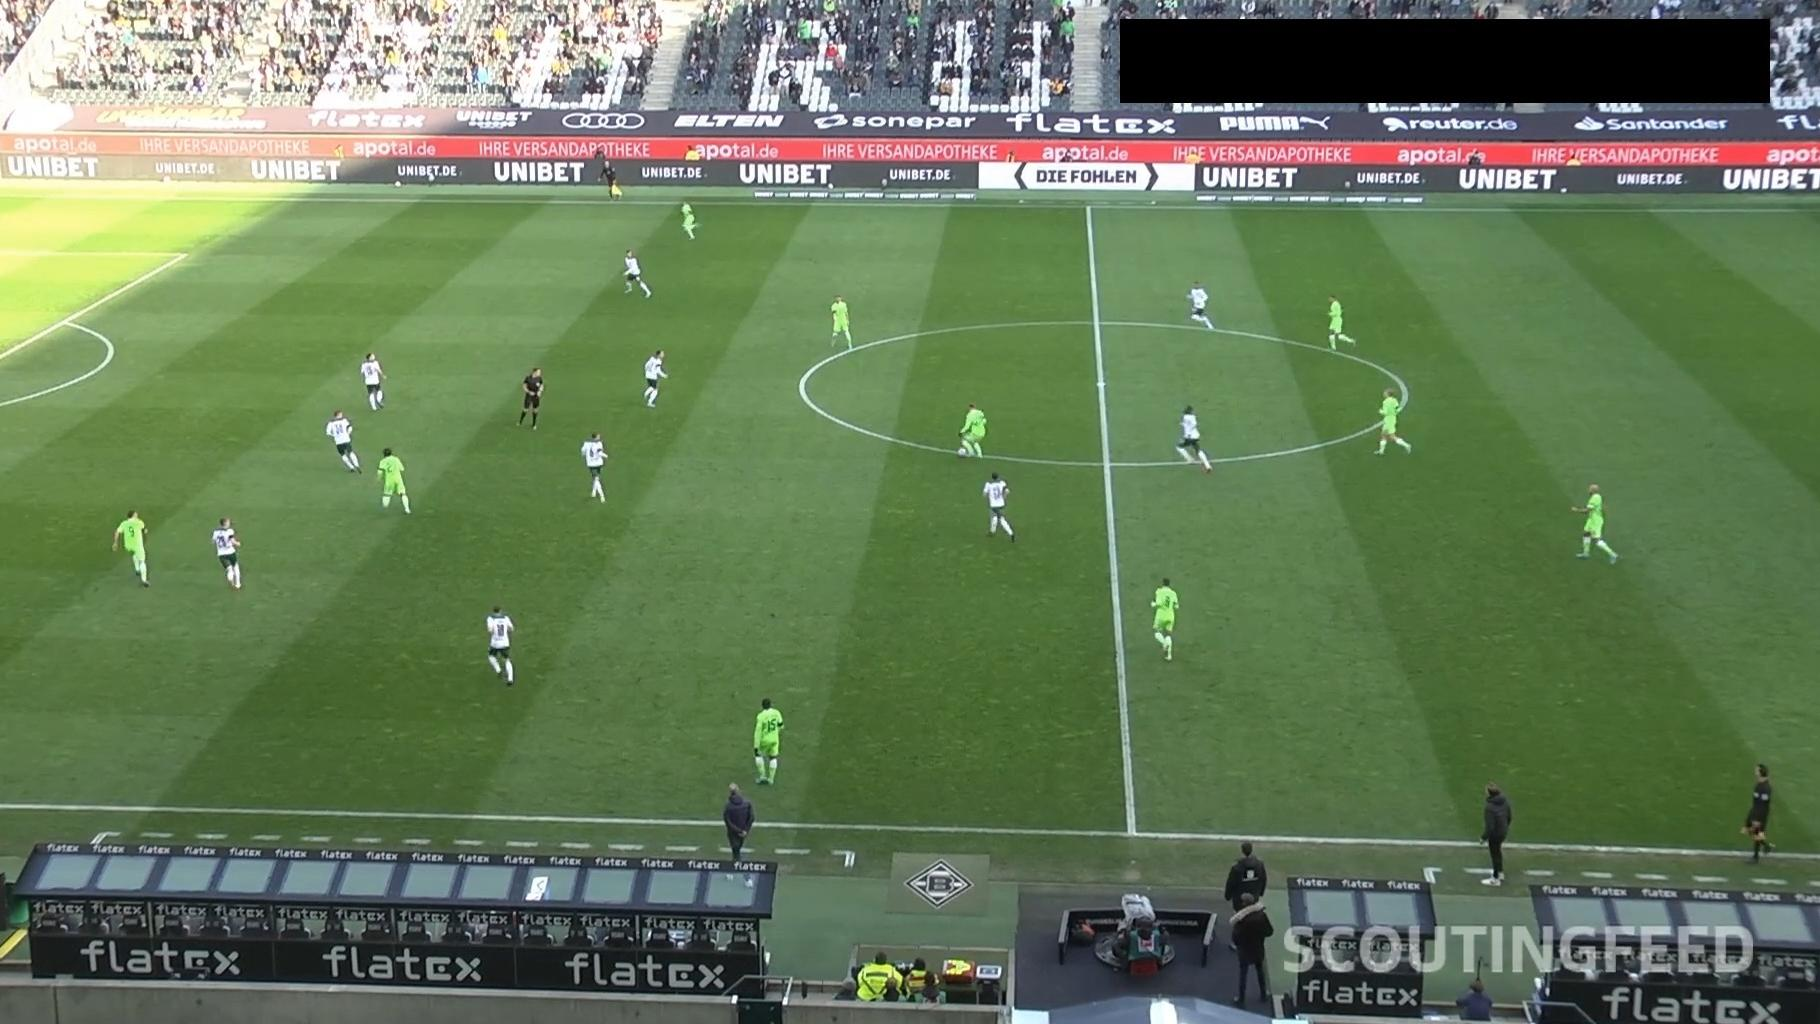ball: (956, 446, 967, 458)
